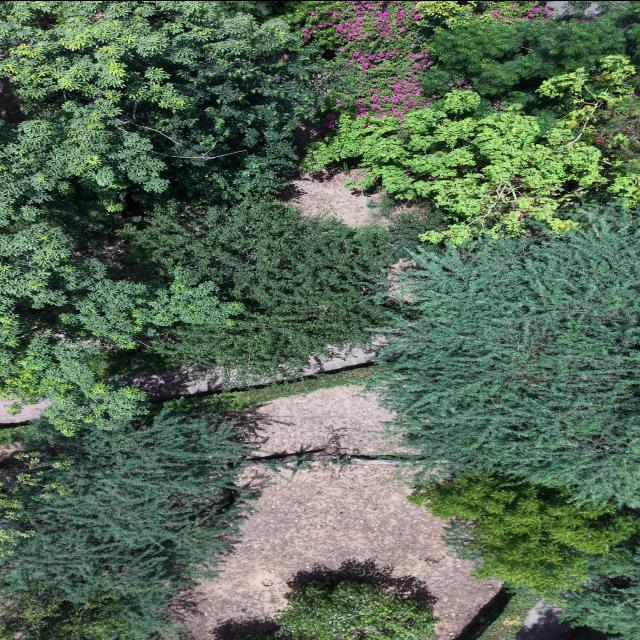DRY_AREA: (177, 463, 499, 639), (178, 463, 499, 639), (186, 464, 499, 639), (288, 170, 420, 226), (281, 167, 385, 226), (289, 170, 386, 226), (290, 169, 385, 225), (290, 172, 386, 225), (291, 172, 381, 225), (122, 365, 239, 400), (510, 601, 568, 639)
VEGETATION_TREE: (0, 1, 639, 639), (1, 1, 358, 639), (305, 4, 639, 638), (1, 1, 432, 432), (1, 1, 341, 434), (371, 204, 639, 571), (373, 205, 639, 505), (304, 4, 637, 243), (2, 1, 350, 206), (307, 55, 639, 243), (1, 404, 249, 639), (122, 201, 422, 376), (0, 219, 241, 435), (2, 406, 247, 601), (409, 474, 639, 639), (153, 23, 352, 201), (409, 474, 639, 597), (418, 1, 637, 113), (424, 1, 639, 114), (289, 1, 428, 117), (252, 581, 437, 639), (180, 364, 381, 410), (560, 535, 639, 639), (0, 594, 178, 639), (459, 592, 539, 639), (417, 1, 551, 26), (558, 626, 620, 639)
